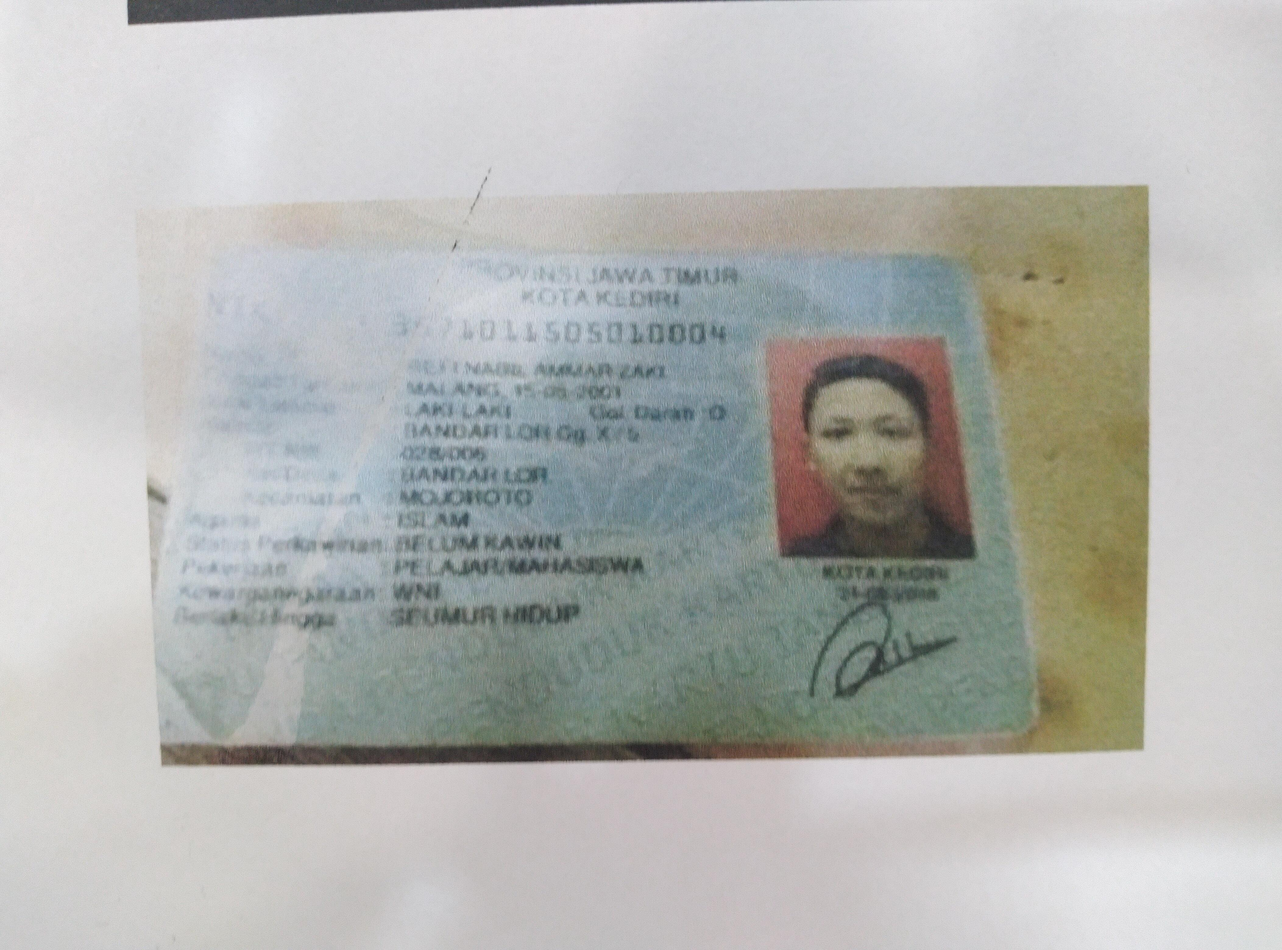ID-card: (165, 250, 1025, 741)
